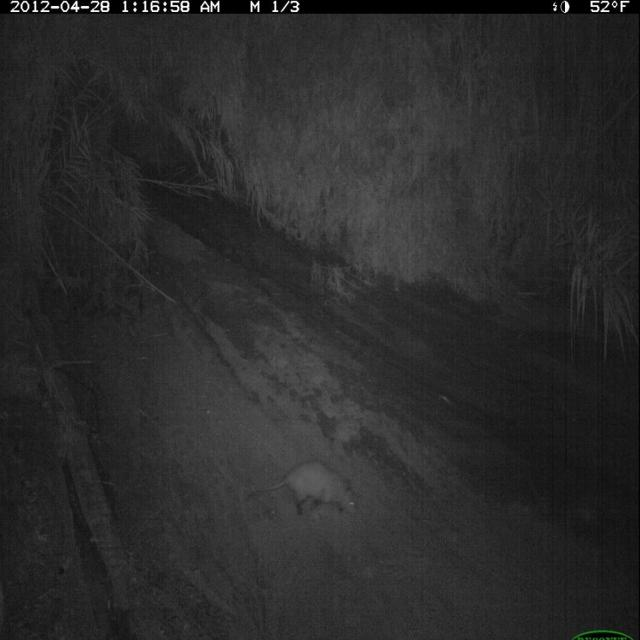opossum: (246, 454, 363, 524)
